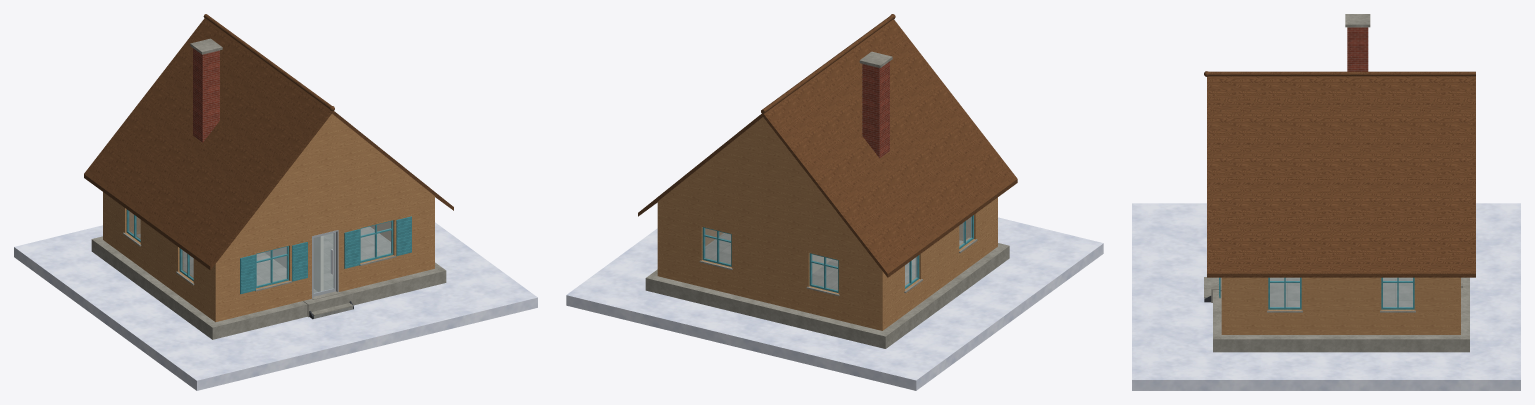
The model's file is b_russian_izba.gltf.
3 views of the same model, side by side, from view 1: azimuth 30°, elevation 25°; view 2: azimuth 150°, elevation 25°; view 3: azimuth 270°, elevation 25° (orthographic). The views are drawn at different scales.
Parts seen in each view (by area): view 1: S_russian_izba, D_russian_izba_F1_S2_Door0; view 2: S_russian_izba; view 3: S_russian_izba.
Boxes of the visible parts, bbox=[...] form: S_russian_izba: bbox=[14, 14, 537, 390]; D_russian_izba_F1_S2_Door0: bbox=[313, 232, 335, 296]; S_russian_izba: bbox=[566, 14, 1103, 390]; S_russian_izba: bbox=[1132, 14, 1520, 390].
Bounding box in the file's own units: 14 × 9.4 × 13.
16 materials, 10 textured.
